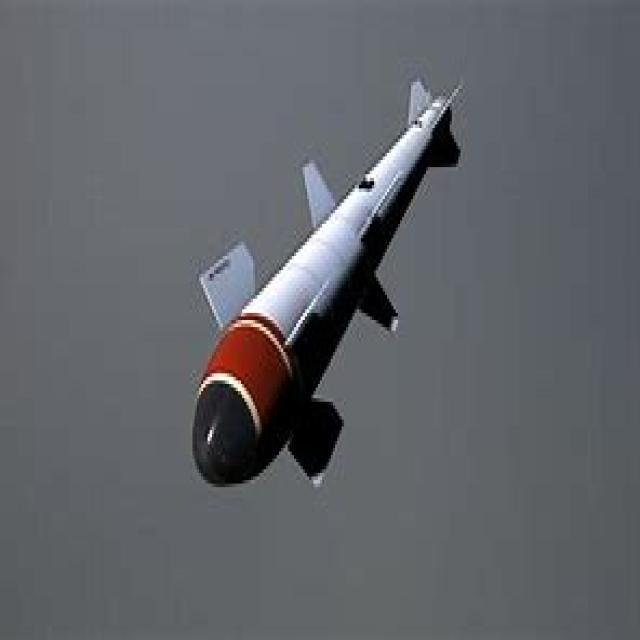missile: (188, 74, 462, 490)
